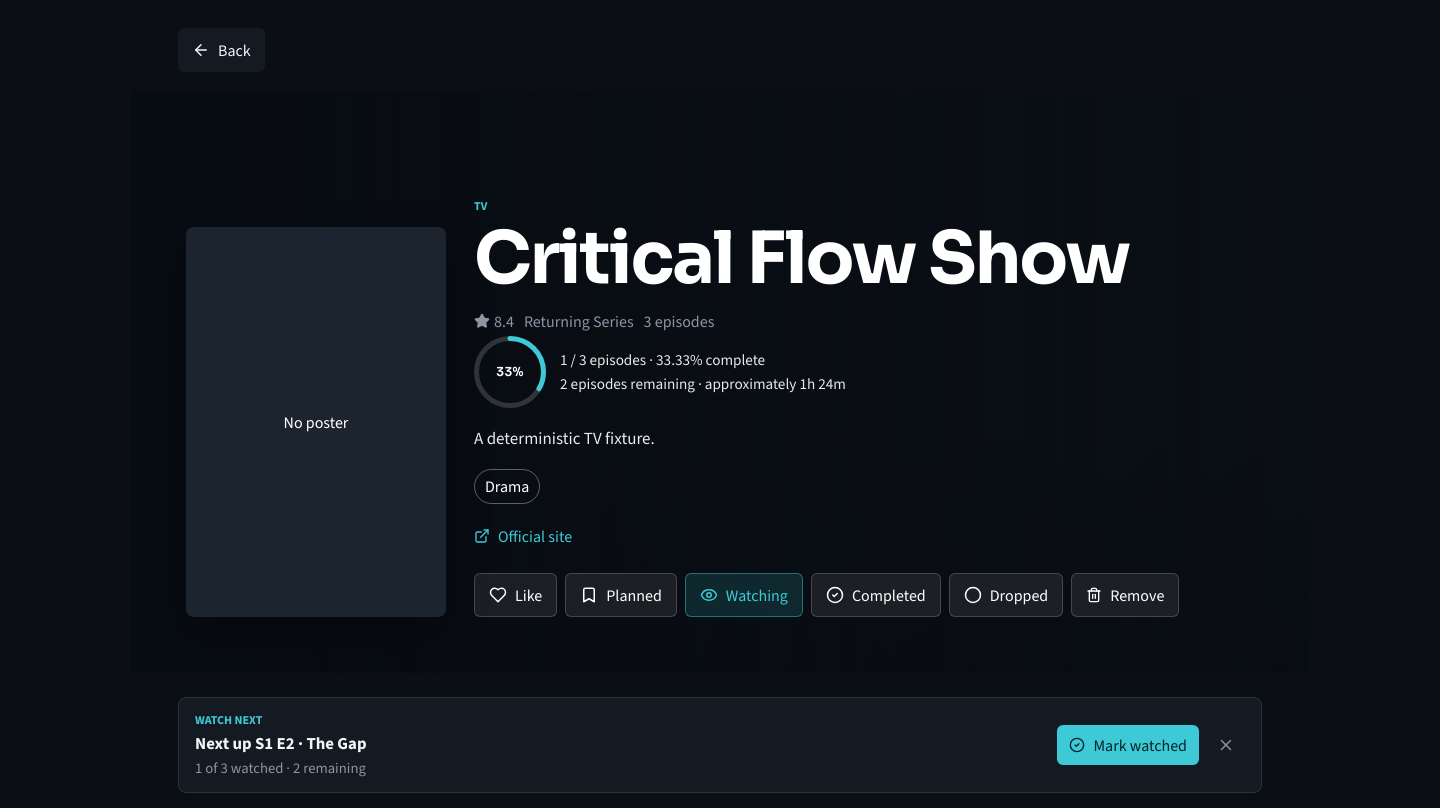
Scenario: DetailPage › shows a post-completion next-episode prompt
Check: the element with test id "next-episode-prompt" shows "Next up S1 E2", box top-left (195, 732), bottom-right (295, 754)
Click the button with test id "next-episode-mark-watched": (1128, 745) top-left (1057, 725), bottom-right (1199, 765)
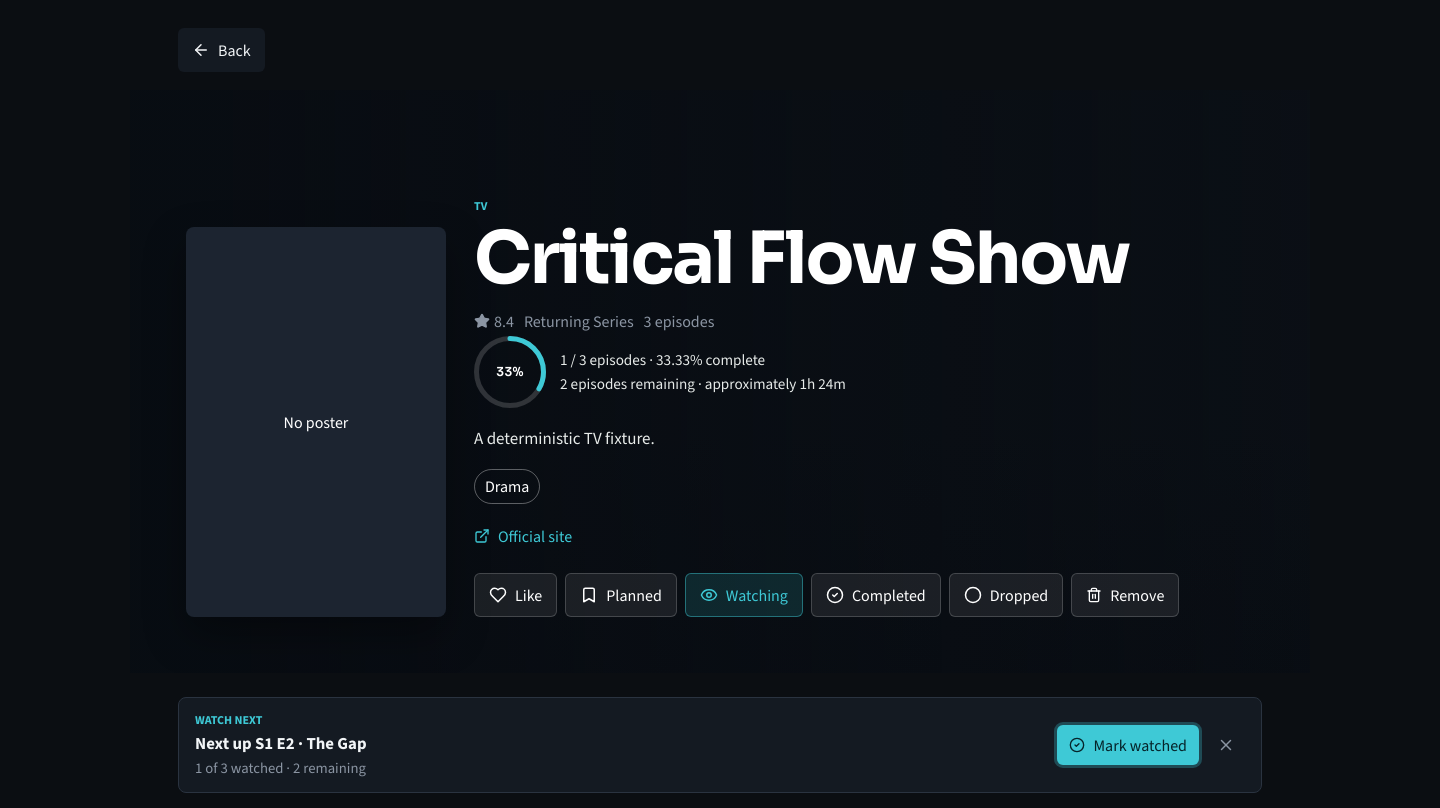
Click the button with test id "next-episode-dismiss": (1226, 745) top-left (1207, 723), bottom-right (1245, 767)
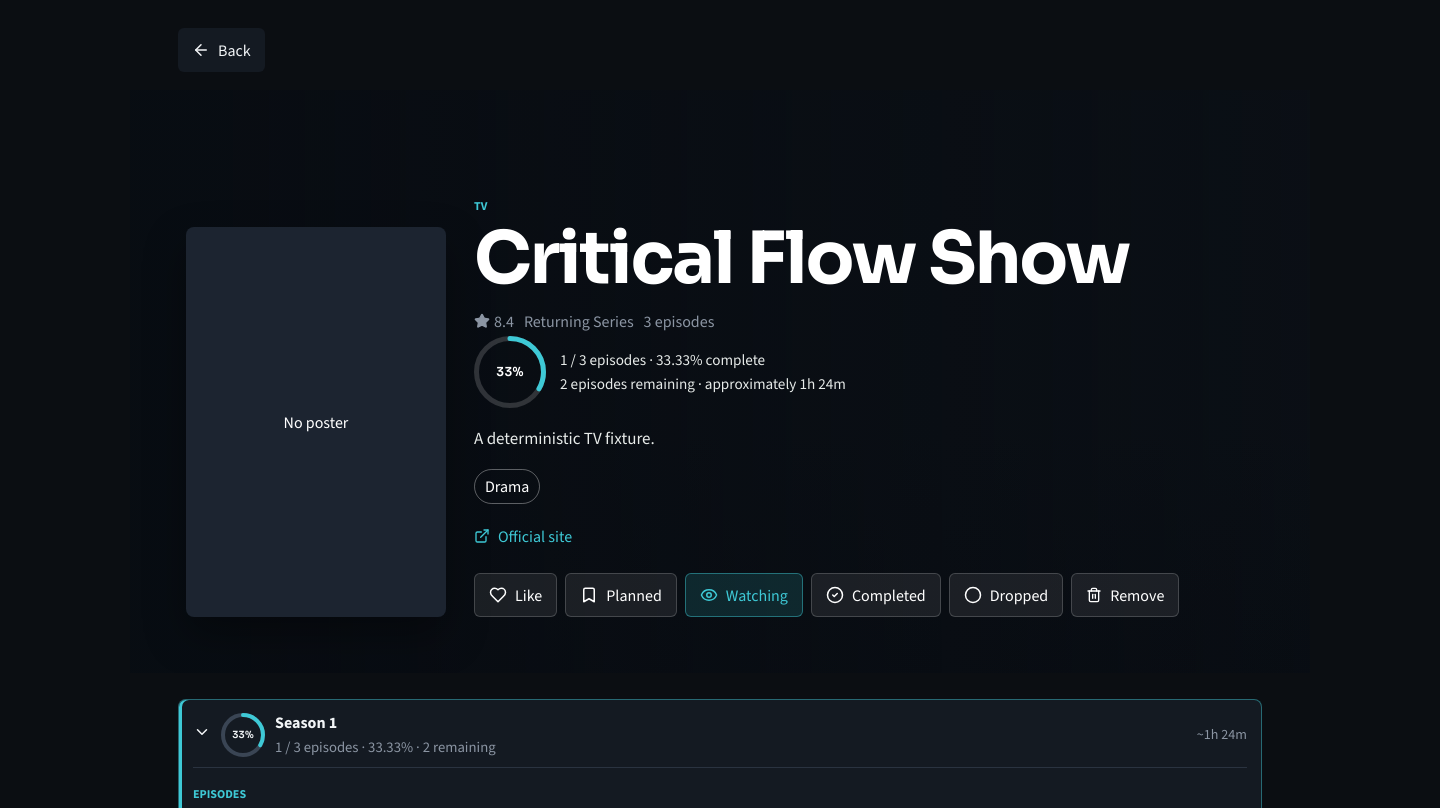
Check: the element with test id "next-episode-prompt" is gone
